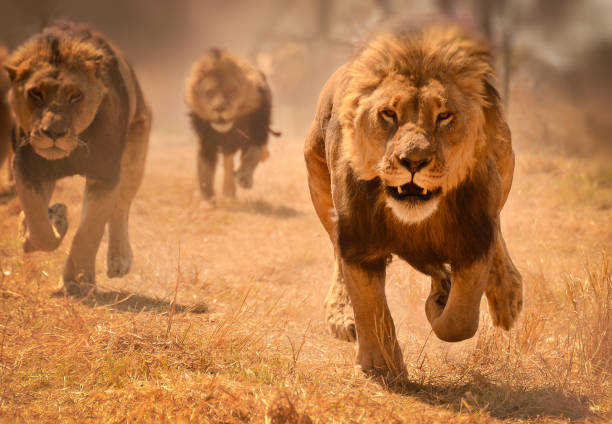lion: (337, 46, 480, 239), (4, 30, 110, 162), (187, 49, 252, 144)
